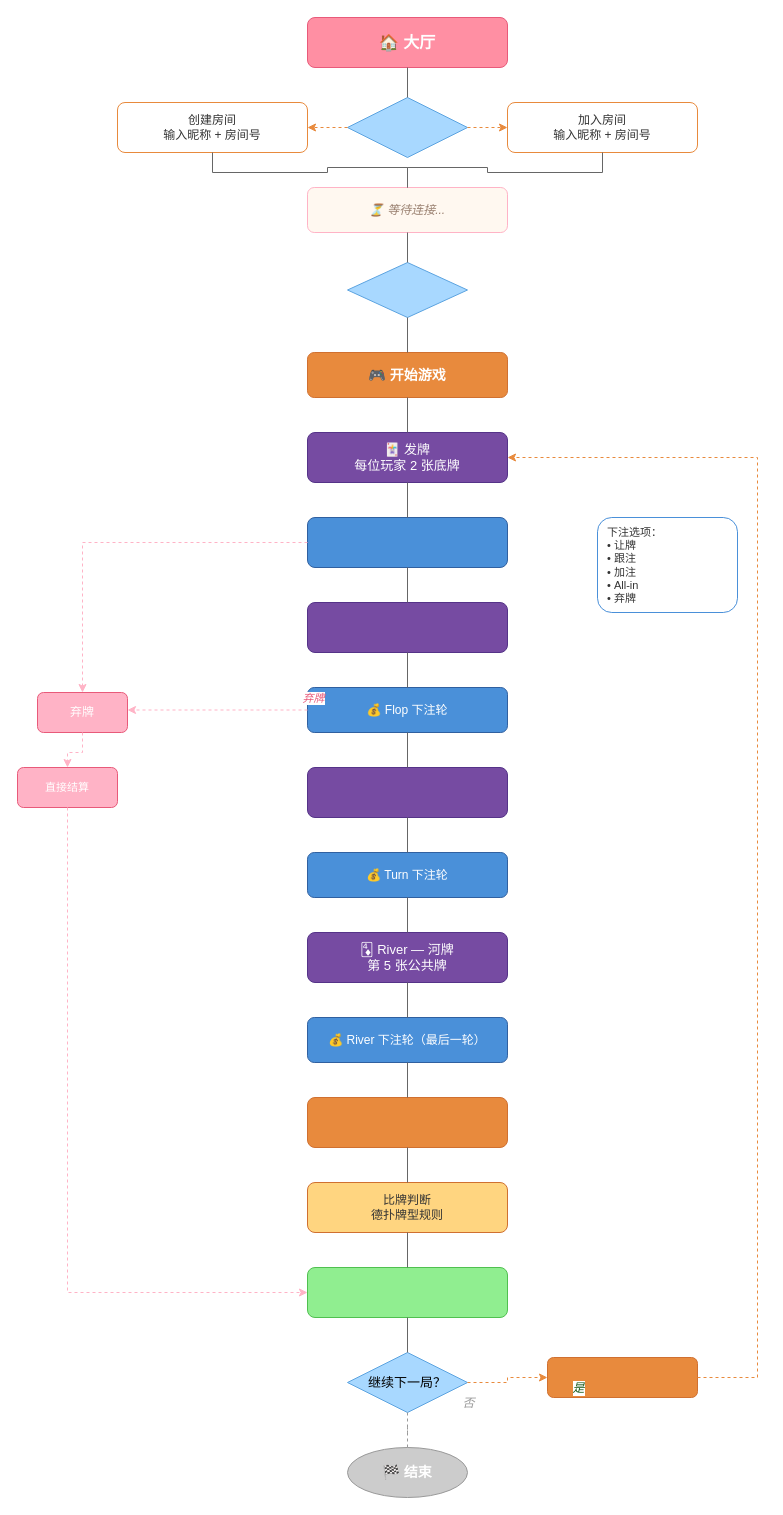
Some shapes in this 783 by 1515 pixel diagram are drawn without their labels. Here are the shapes that lost their labels. From the top down, the centre of each, then its label:
the point at 407,127: 选择身份
the point at 407,290: 双方已连接？
the point at 407,542: 💰 Pre-flop 下注 大小盲设置
the point at 407,627: 🃄 Flop — 翻牌 3 张公共牌
the point at 407,792: 🃄 Turn — 转牌 第 4 张公共牌
the point at 407,1122: 🎯 摊牌 双方亮出手牌
the point at 407,1292: 💎 结算 筹码分配
the point at 622,1377: 🔄 下一局
